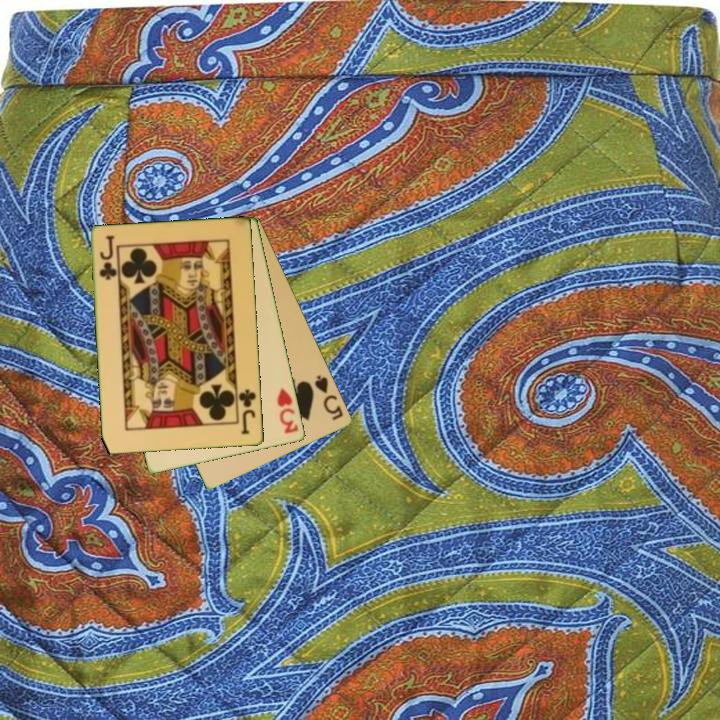3h: (274, 384, 302, 437)
5s: (311, 371, 346, 423)
Jc: (235, 386, 259, 438), (96, 232, 119, 283)
